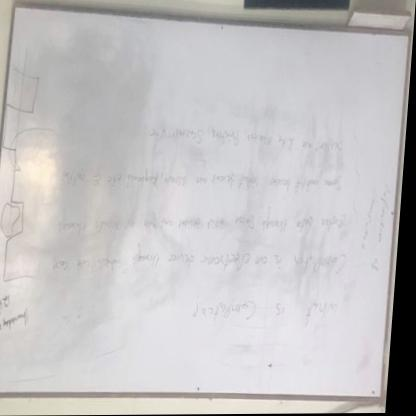Handwritten text: (47, 244, 351, 282), (58, 206, 354, 239), (58, 166, 350, 198), (167, 119, 351, 160), (202, 299, 348, 331)
